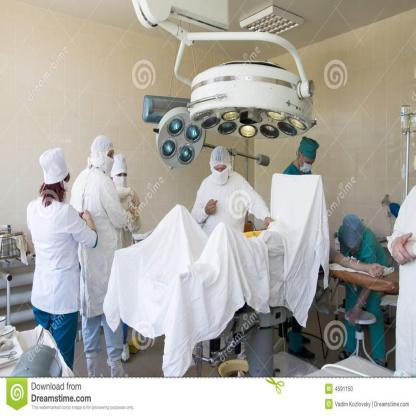face: (213, 160, 229, 185), (301, 152, 316, 173), (114, 170, 128, 192), (106, 149, 116, 174), (347, 239, 360, 256)
